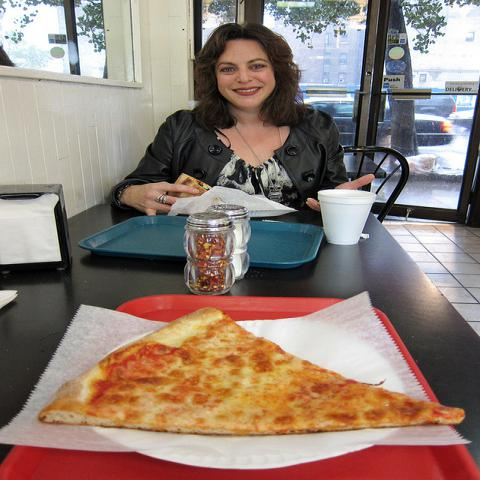car: (302, 97, 454, 149), (414, 91, 458, 117)
